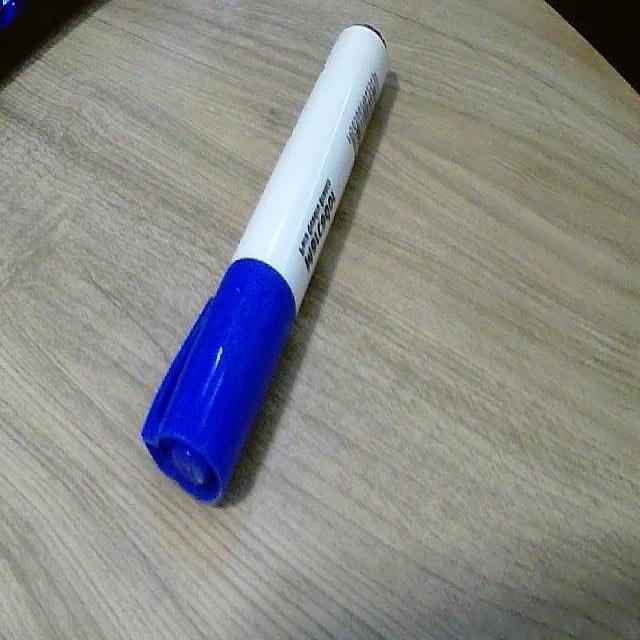caneta: (117, 4, 415, 516)
